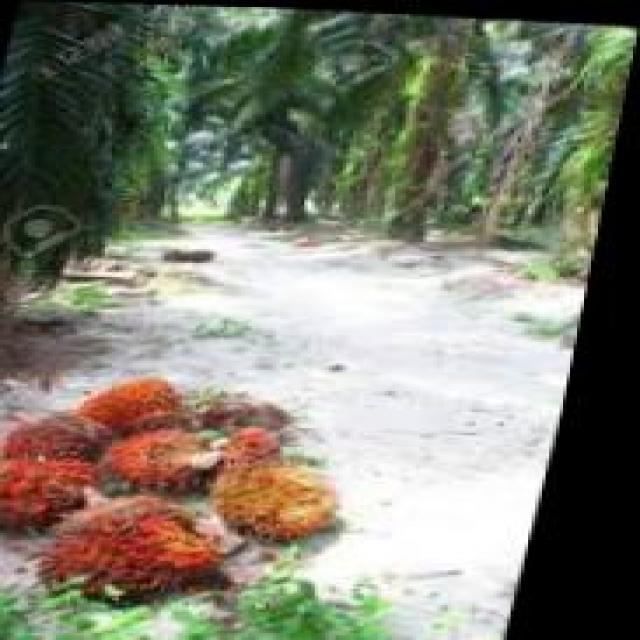Ripefruit: (44, 491, 260, 607), (231, 463, 385, 542), (93, 421, 240, 491), (0, 444, 105, 530), (0, 403, 115, 464), (86, 375, 198, 433)
